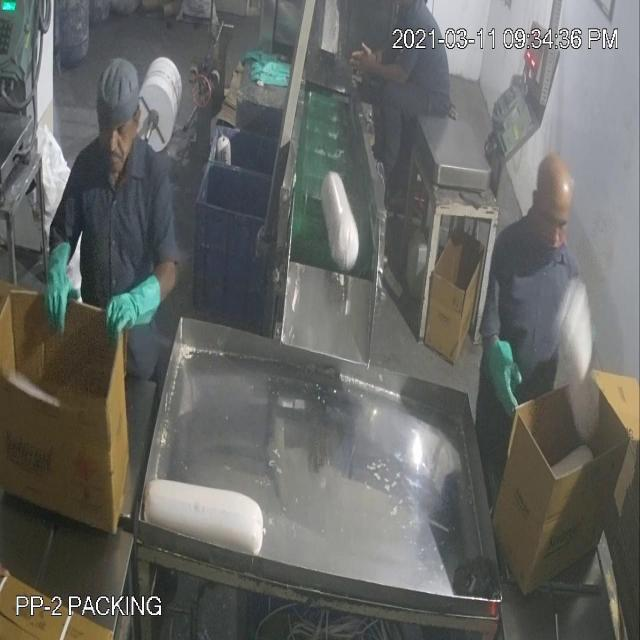No_Gloves: (30, 64, 506, 372)
